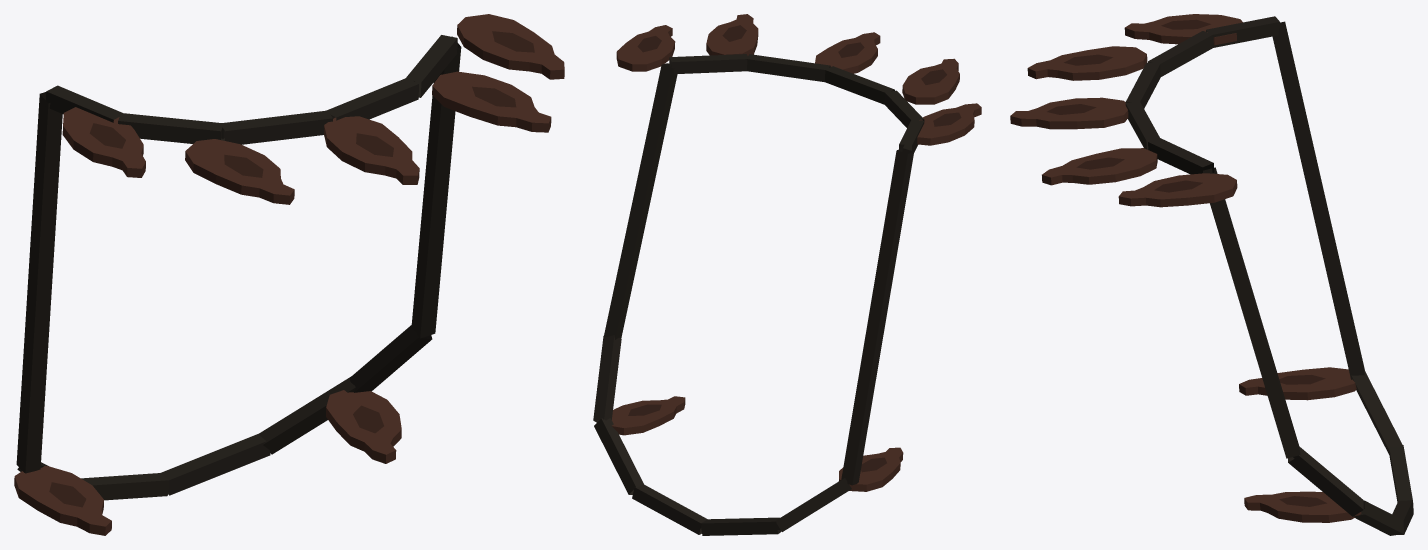
Rendered from ear_necklace.glb.
3 views of the same model, side by side, from view 1: azimuth 30°, elevation 25°; view 2: azimuth 150°, elevation 25°; view 3: azimuth 270°, elevation 25° (orthographic). The views are drawn at different scales.
Visible parts, largest first — view 1: ear_necklace; view 2: ear_necklace; view 3: ear_necklace.
Part boxes in pixels (left/top/right/bottom): ear_necklace: left=14, top=14, right=564, bottom=535; ear_necklace: left=593, top=14, right=981, bottom=535; ear_necklace: left=1010, top=14, right=1413, bottom=535.
Size of the model in its own units: 0.2521 by 0.2676 by 0.2338.
